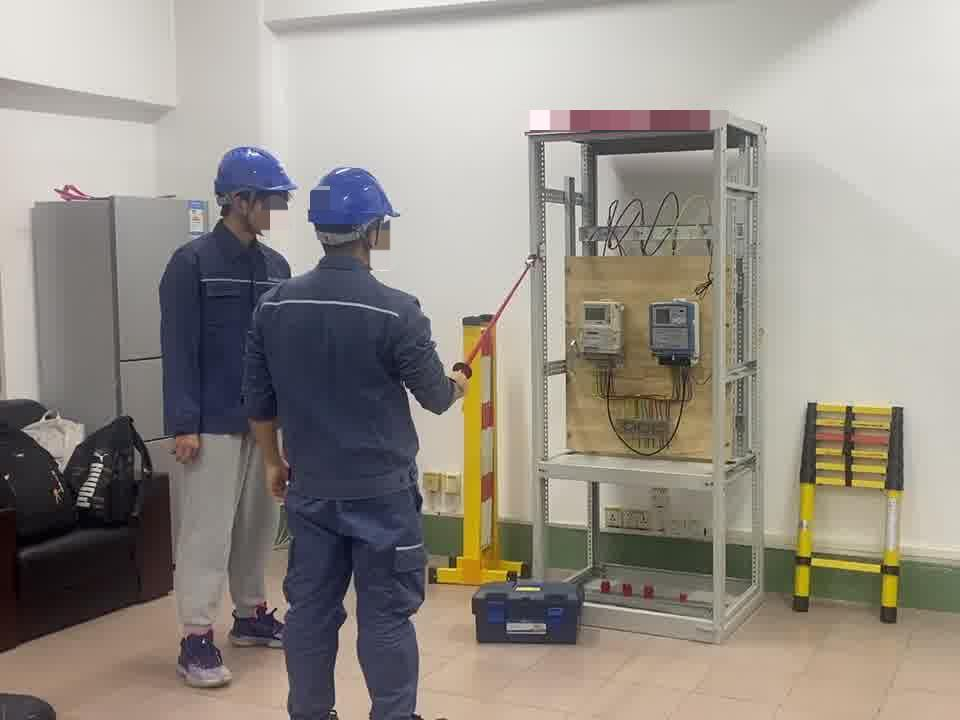halt: (310, 167, 402, 270), (213, 146, 299, 243)
inear: (228, 192, 263, 229), (358, 223, 386, 265)
